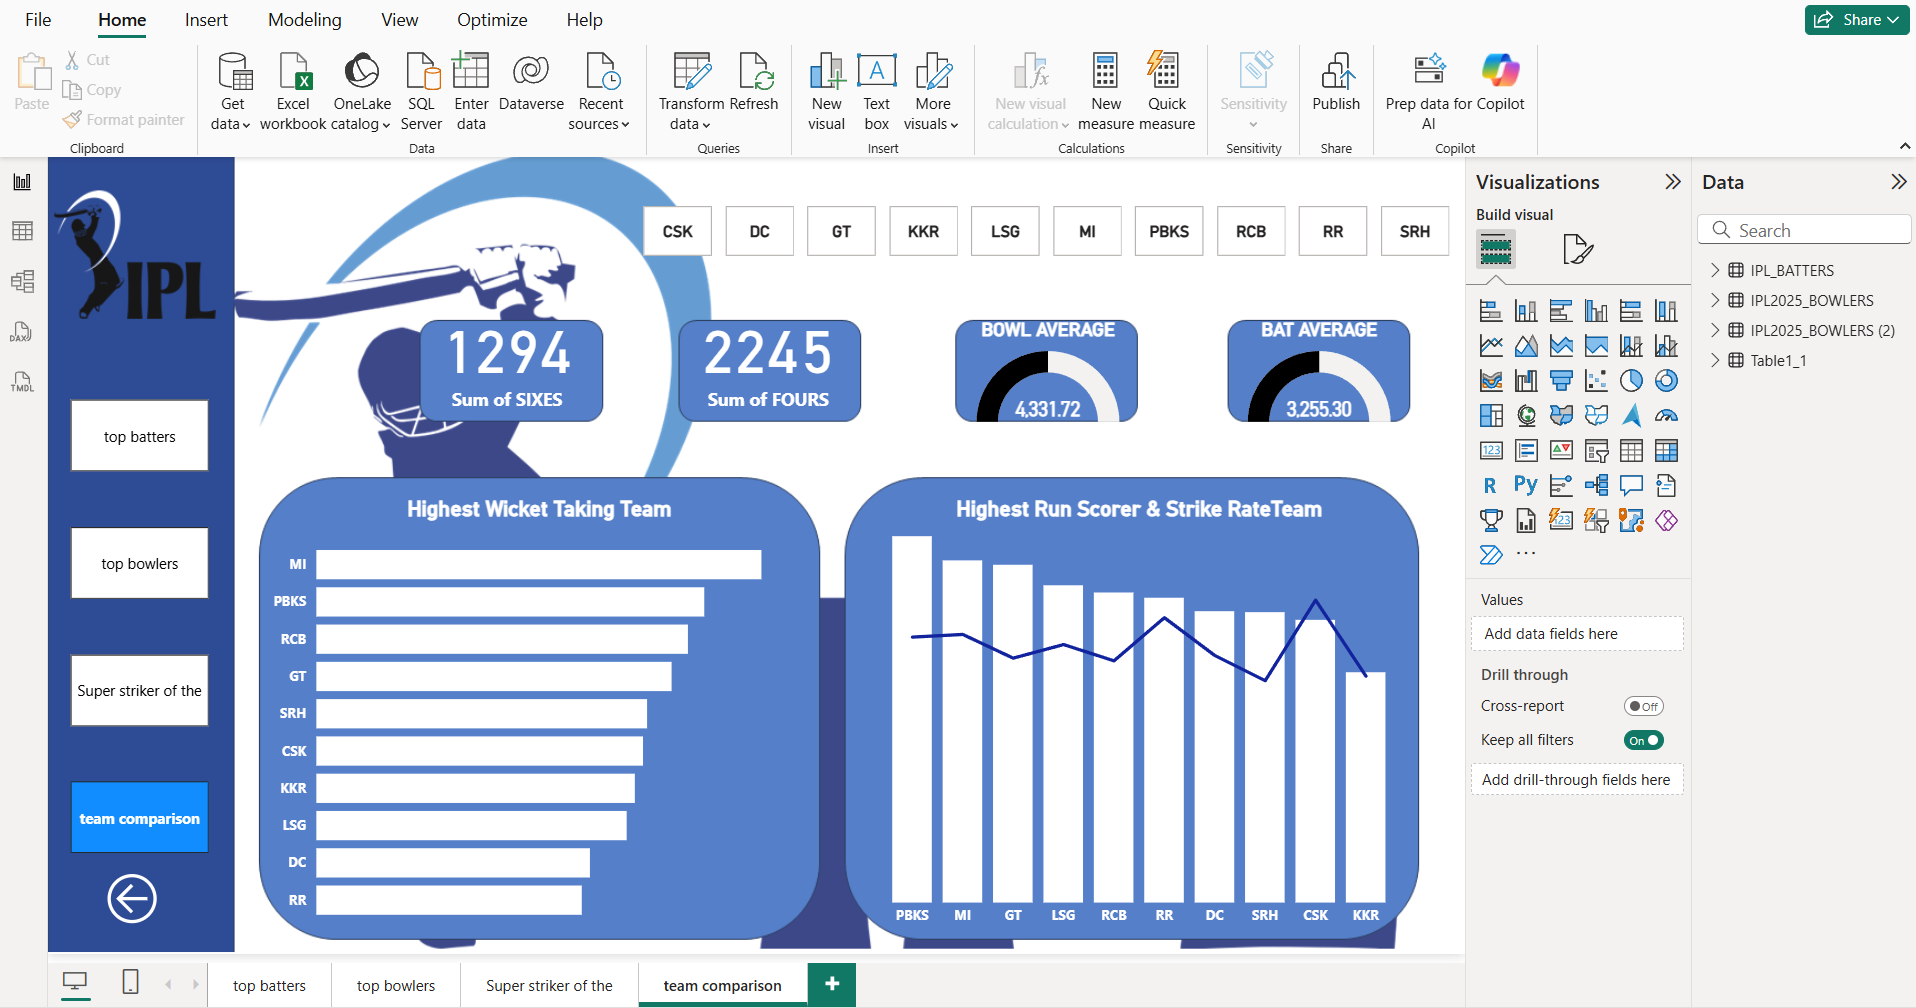

This screenshot's page, from the dashboard's own definition file:
{"tool":"powerbi","page":{"name":"team comparison","canvas":[1280,720],"ordinal":3},"visuals":[{"type":"lineClusteredColumnComboChart","title":"Highest Run Scorer & Strike RateTeam","fields":{"Category":["IPL_BATTERS.TEAM"],"Y":["Sum(IPL_BATTERS.RUNS)"],"Y2":["Sum(IPL_BATTERS.STRIKE_RATE)"]},"box":[739.6,307.4,492.6,396.6],"z":0},{"type":"card","fields":{"Values":["Sum(IPL_BATTERS.SIXES)"]},"box":[326.6,126.2,177,107],"z":1000},{"type":"card","fields":{"Values":["Sum(IPL_BATTERS.FOURS)"]},"box":[562.6,126.2,177,107],"z":2000},{"type":"clusteredBarChart","title":"Highest Wicket Taking Team","fields":{"Category":["IPL2025_BOWLERS (2).TEAM"],"Y":["Sum(IPL2025_BOWLERS (2).WICKETS)"]},"box":[197.6,307.4,492.6,396.6],"z":3000},{"type":"gauge","title":"BOWL  AVERAGE","fields":{"Y":["Sum(IPL2025_BOWLERS (2).AVERAGE)"]},"box":[819.2,145.5,167.4,98.8],"z":4000},{"type":"gauge","title":" BAT AVERAGE","fields":{"Y":["Sum(IPL_BATTERS.AVG)"]},"box":[1064.8,145.5,167.4,98.8],"z":5000},{"type":"advancedSlicerVisual","fields":{"Values":["IPL_BATTERS.TEAM"]},"box":[532.9,40,741.4,55.7],"z":6000},{"type":"pageNavigator","box":[20,218.6,125.7,411.4],"z":7000},{"type":"actionButton","box":[47.1,641.4,91.4,57.1],"z":8000}]}

Visuals, with their boxes on the page's 1280x720 design canvas (x1, y1, x2, y2). These are canvas units, not pixel positions in the 1916x1008 screenshot, which may show the page scaled, cropped or inside an application window:
"Highest Run Scorer & Strike RateTeam" lineClusteredColumnComboChart: bbox=(740, 307, 1232, 704)
card - Sum(IPL_BATTERS.SIXES): bbox=(327, 126, 504, 233)
card - Sum(IPL_BATTERS.FOURS): bbox=(563, 126, 740, 233)
"Highest Wicket Taking Team" clusteredBarChart: bbox=(198, 307, 690, 704)
"BOWL  AVERAGE" gauge: bbox=(819, 146, 987, 244)
" BAT AVERAGE" gauge: bbox=(1065, 146, 1232, 244)
advancedSlicerVisual - IPL_BATTERS.TEAM: bbox=(533, 40, 1274, 96)
pageNavigator: bbox=(20, 219, 146, 630)
actionButton: bbox=(47, 641, 138, 698)
